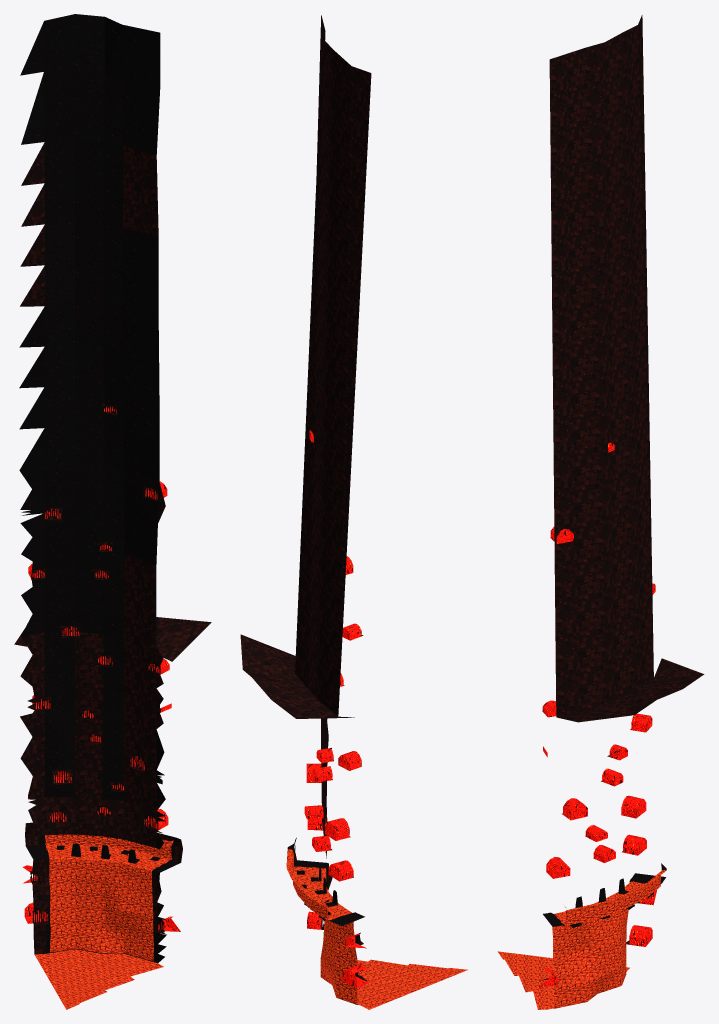
The model's file is map_base_s5.glb.
3 views of the same model, side by side, from view 1: azimuth 30°, elevation 25°; view 2: azimuth 150°, elevation 25°; view 3: azimuth 270°, elevation 25° (orthographic). The views are drawn at different scales.
Parts seen in each view (by area): view 1: MapBaseS5Rock; view 2: MapBaseS5Rock; view 3: MapBaseS5Rock.
Part boxes in pixels (x1,y1,x2,y2): MapBaseS5Rock: [14, 14, 211, 1009]; MapBaseS5Rock: [240, 15, 467, 1009]; MapBaseS5Rock: [497, 15, 704, 1009].
Size of what is drawn, in the model's own units: 70.85 by 342 by 67.15.
Materials: 6 (6 with a texture image).
